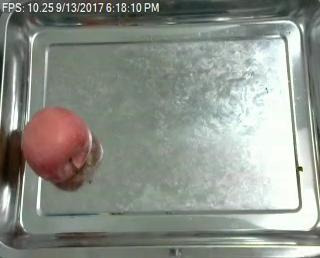apple: (20, 105, 93, 183)
